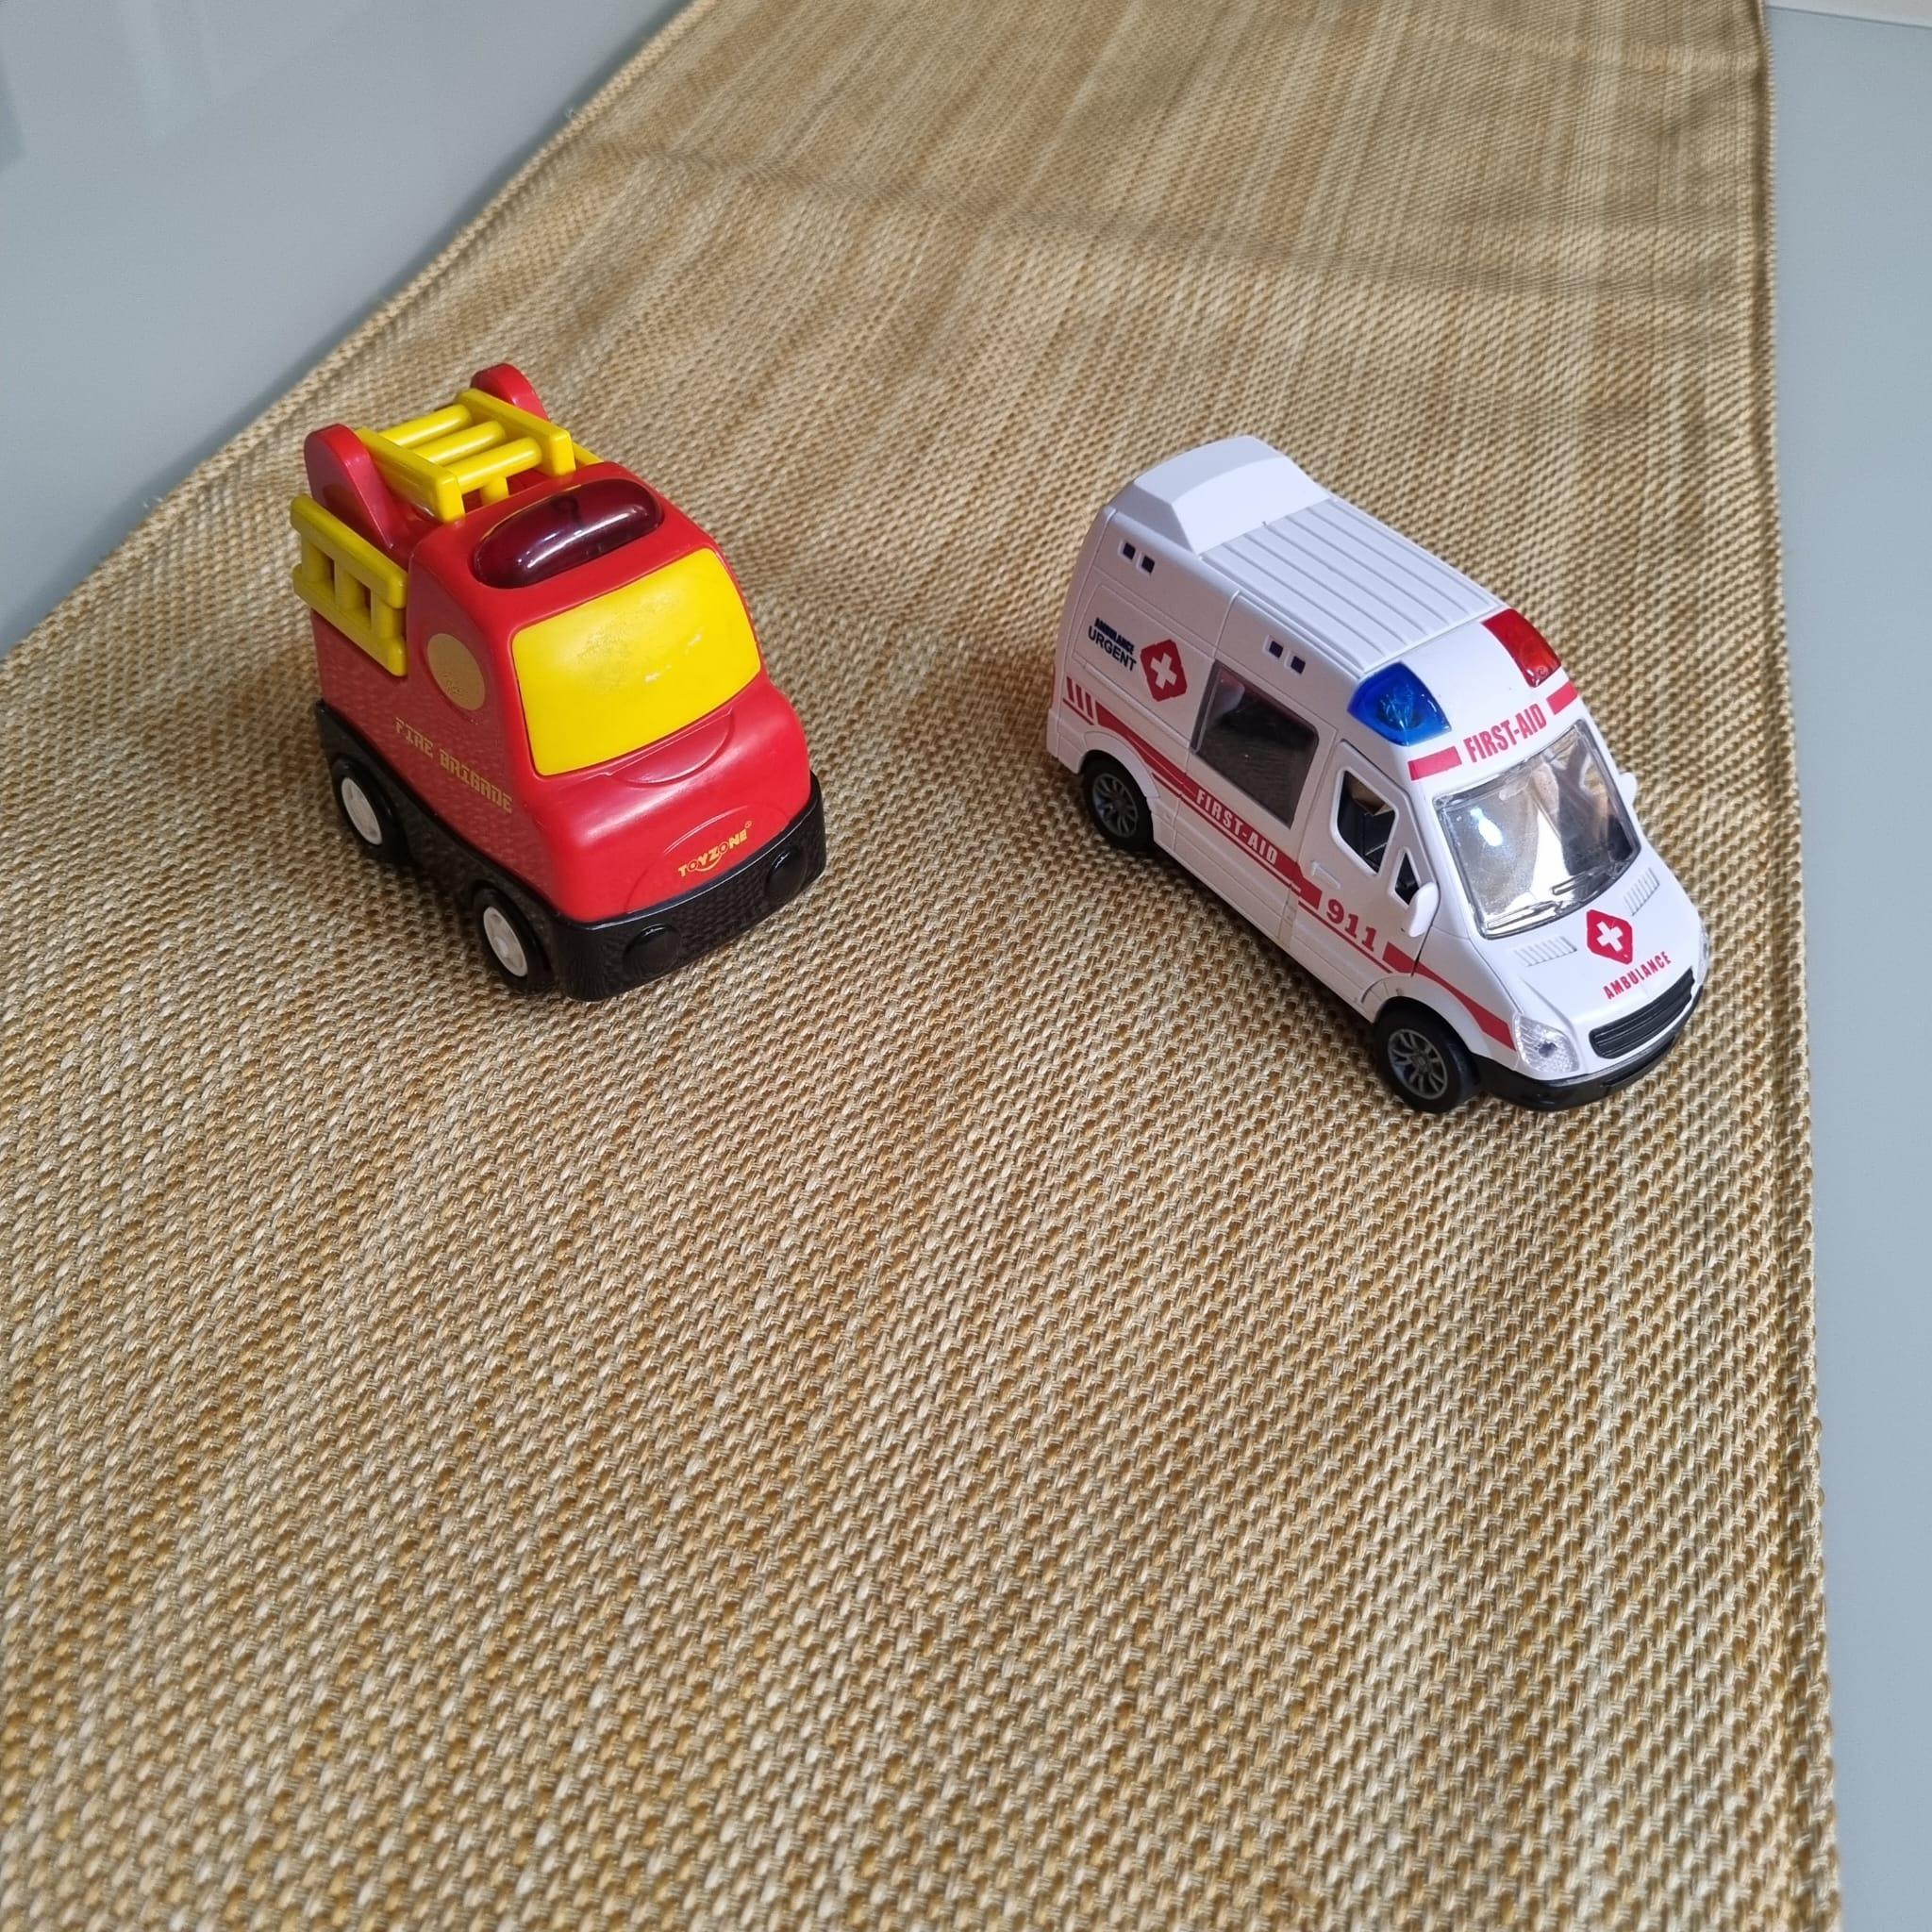ambulance_off: (1039, 439, 1713, 1122)
firetruck_off: (294, 359, 833, 1005)
